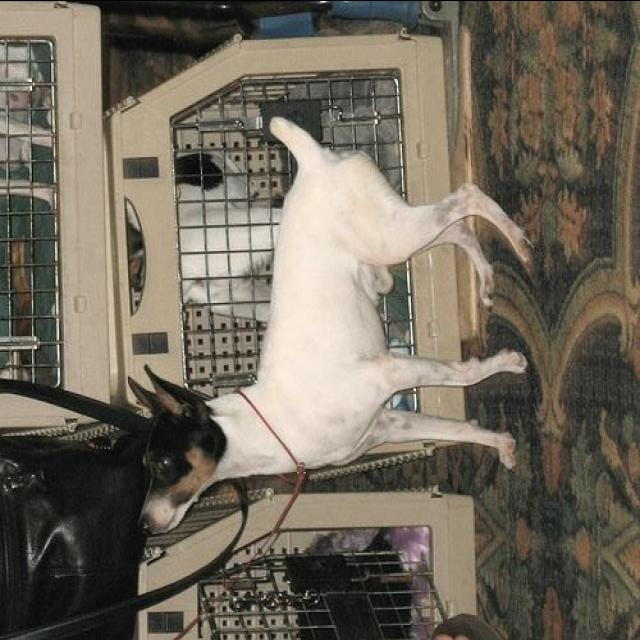toy_terrier: (125, 109, 528, 544)
